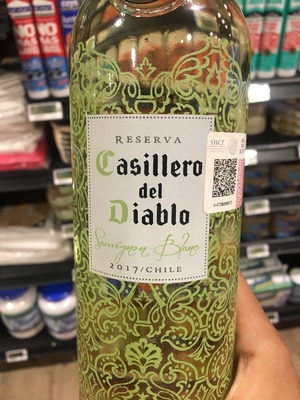casillero del diablo sauvignon blanc: (68, 7, 250, 400)
